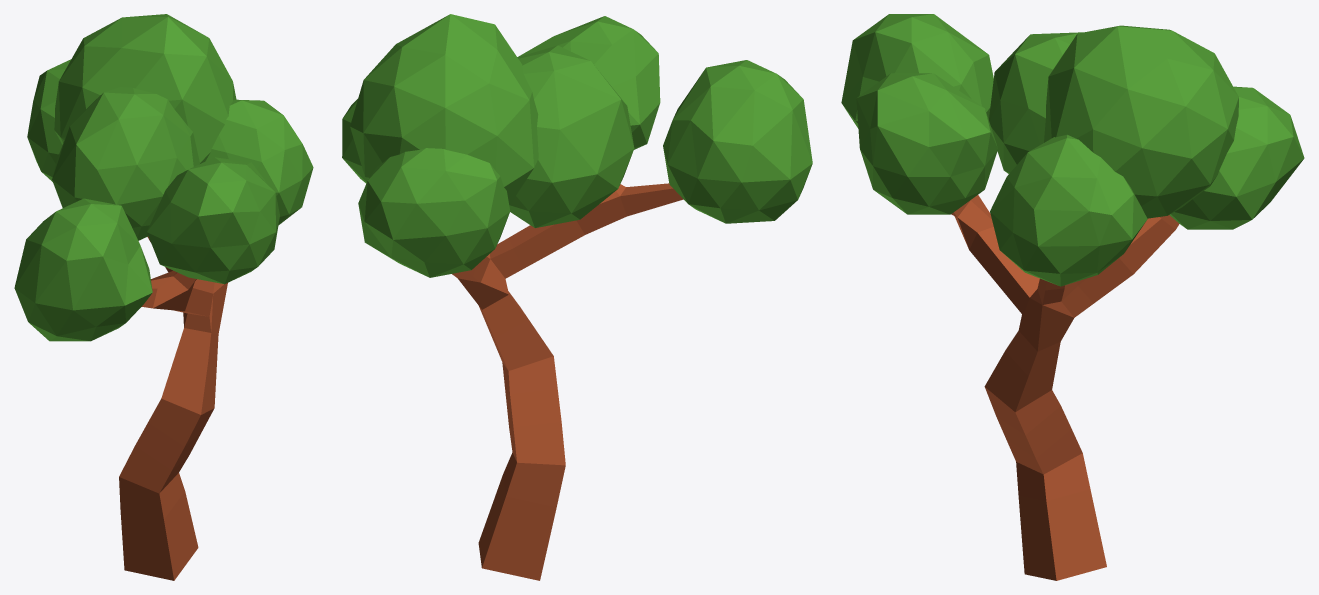
File: Tree1.fbx
The picture shows the model from 3 angles, left to right: view 1: azimuth 30°, elevation 25°; view 2: azimuth 150°, elevation 25°; view 3: azimuth 270°, elevation 25°; orthographic projection. The views are drawn at different scales.
Visible parts, largest first — view 1: Cube, Icosphere, Icosphere.005, Icosphere.002, Icosphere.001, Icosphere.004, Icosphere.003; view 2: Cube, Icosphere.005, Icosphere, Icosphere.003, Icosphere.002, Icosphere.001, Icosphere.004; view 3: Cube, Icosphere.005, Icosphere.004, Icosphere.001, Icosphere.003, Icosphere, Icosphere.002.
Boxes of the visible parts, x1,y1,x2,y2 form: Cube: (119, 236, 227, 580); Icosphere: (14, 198, 152, 341); Icosphere.005: (54, 14, 236, 163); Icosphere.002: (52, 87, 199, 240); Icosphere.001: (147, 157, 279, 284); Icosphere.004: (205, 99, 313, 225); Icosphere.003: (27, 59, 70, 181); Cube: (452, 183, 683, 580); Icosphere.005: (350, 14, 538, 204); Icosphere: (663, 60, 812, 223); Icosphere.003: (358, 148, 510, 277); Icosphere.002: (509, 45, 634, 227); Icosphere.001: (518, 16, 660, 149); Icosphere.004: (342, 99, 367, 183); Cube: (951, 195, 1179, 580); Icosphere.005: (1044, 25, 1238, 218); Icosphere.004: (990, 134, 1147, 286); Icosphere.001: (856, 73, 997, 214); Icosphere.003: (1169, 86, 1304, 229); Icosphere: (841, 14, 993, 128); Icosphere.002: (989, 32, 1082, 173).
Bounding box in the file's own units: 535 × 781 × 578.
